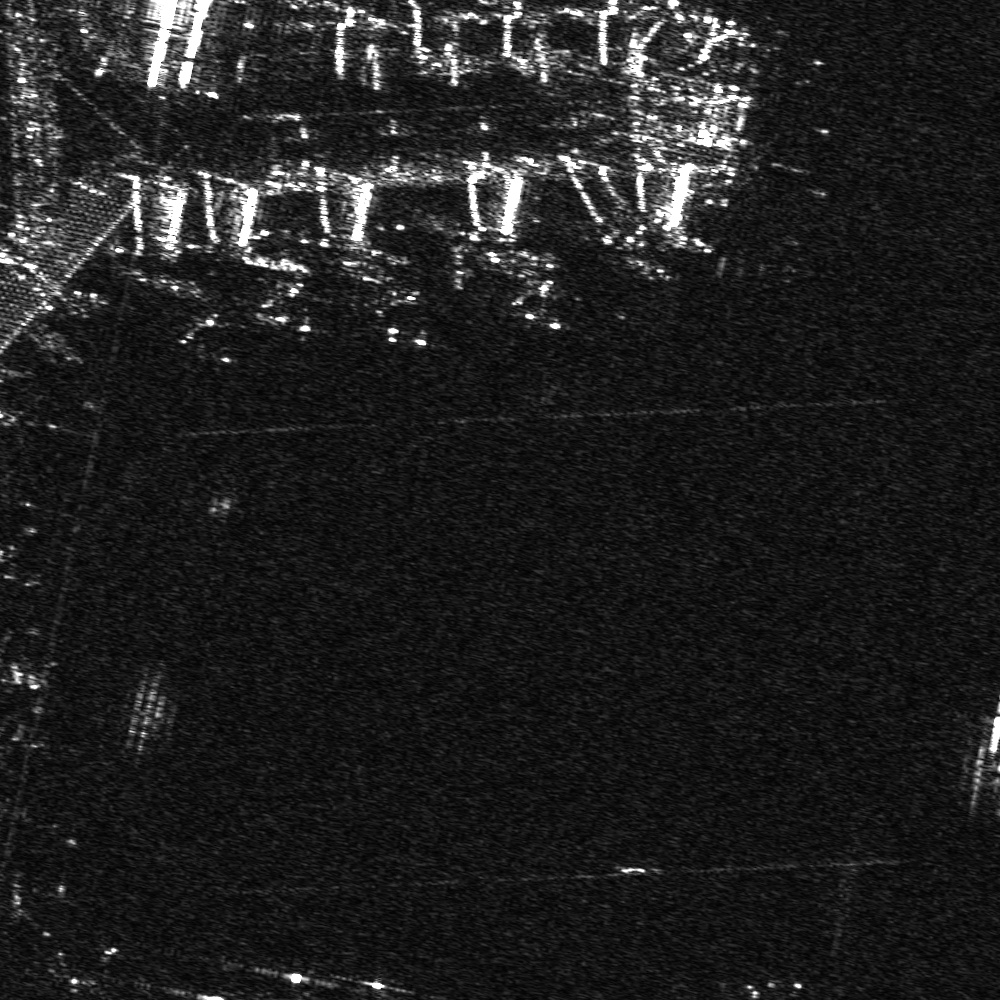A220: (257, 262, 331, 334), (237, 964, 313, 999)
A320/321: (720, 967, 810, 999)
Boeing737: (179, 291, 245, 368)
Boeing787: (365, 255, 429, 345)
other: (509, 257, 581, 331)
